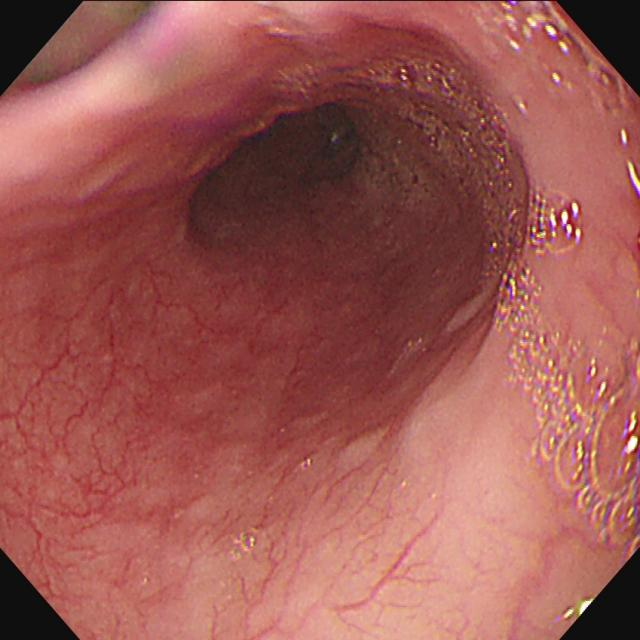J: (365, 141, 436, 209)
T: (498, 268, 640, 545), (383, 59, 521, 266)
